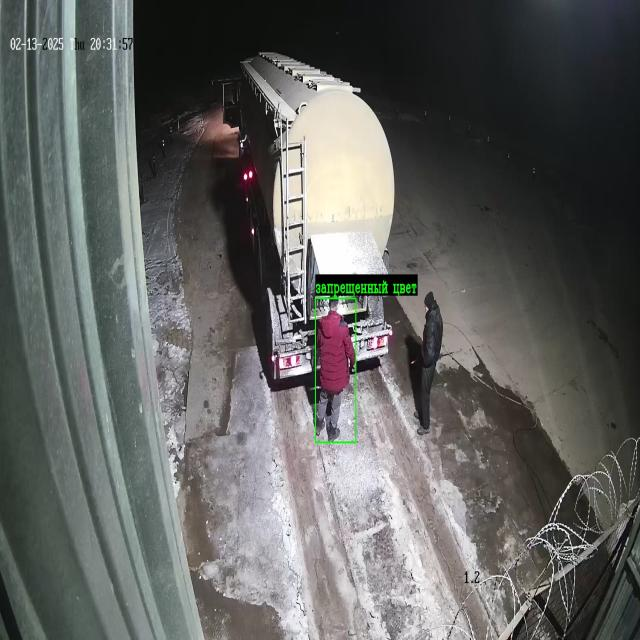Person: (416, 291, 443, 434)
Red uniform: (317, 300, 355, 440)
